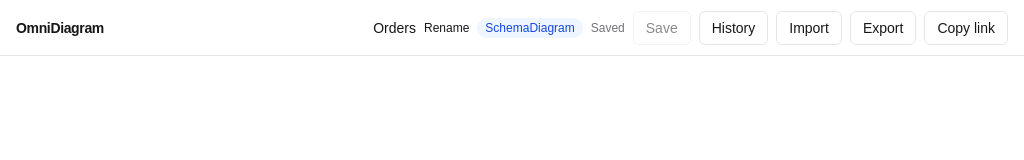
Test: EditorHeader › cancels editing on Escape without committing
Click the button "Rename" at (447, 28), box [424,20,469,36]
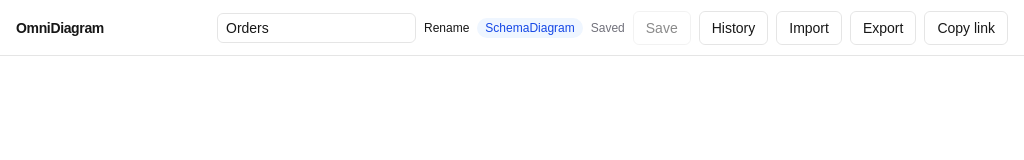
Replace the text in the field showing "Orders" with "Something else" at (316, 28), box [217,12,416,42]
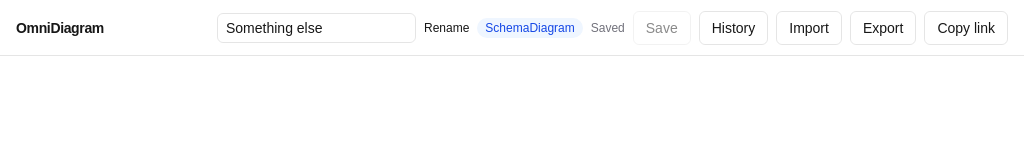
Press Escape in the field showing "Orders", box [217,12,416,42]
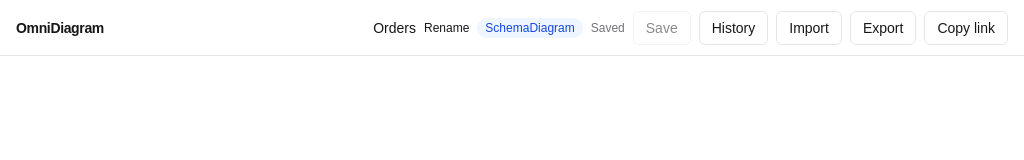
Expected: the text "Orders" is shown, [373,18,416,38]
